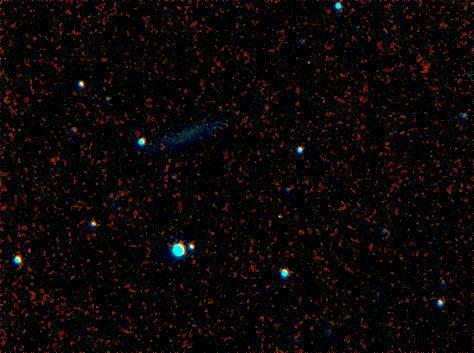star: (268, 208, 298, 238)
